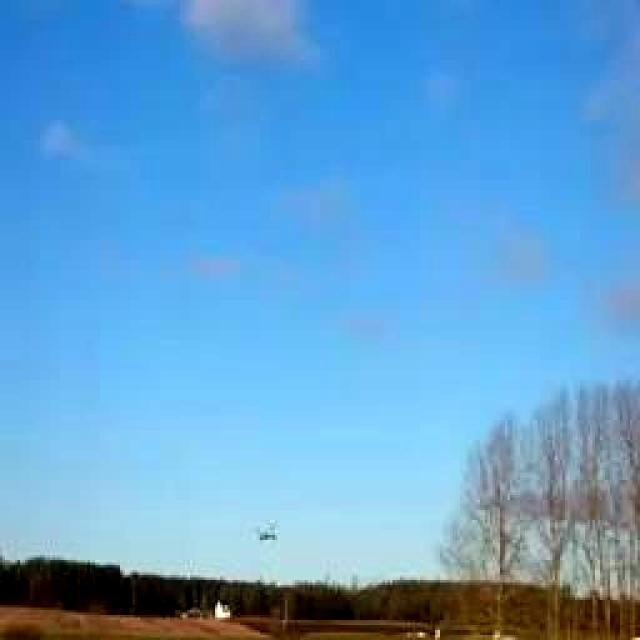bird: (230, 495, 308, 562)
